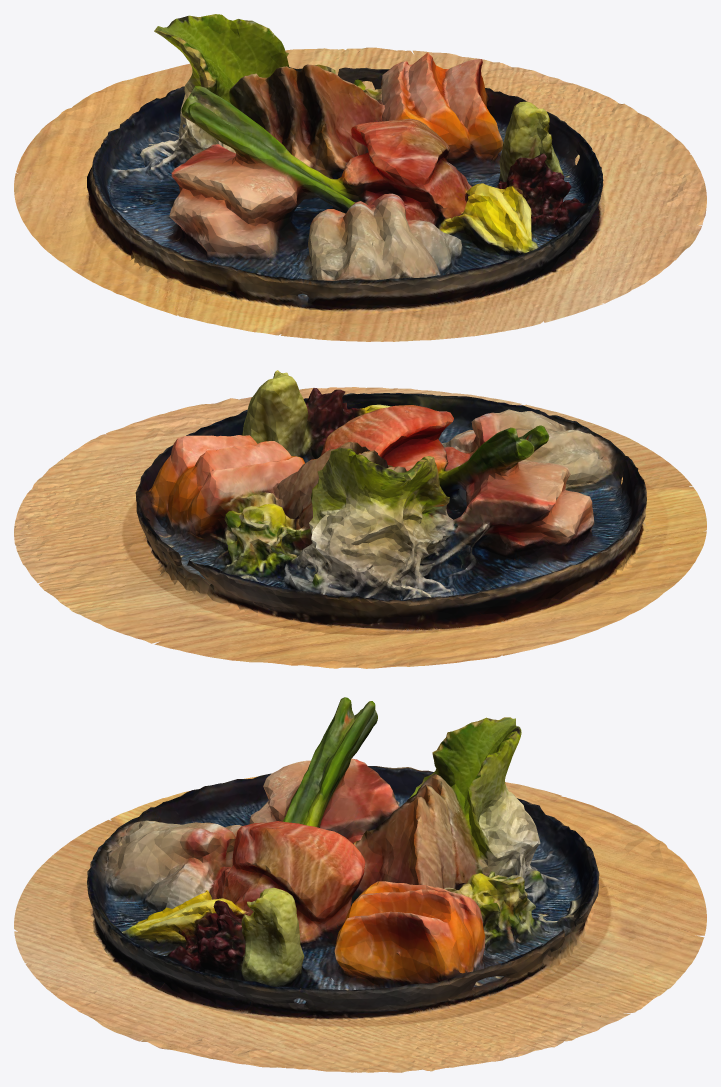
File: sushi.glb
The picture shows the model from 3 angles, top to bottom: view 1: azimuth 30°, elevation 25°; view 2: azimuth 150°, elevation 25°; view 3: azimuth 270°, elevation 25°; orthographic projection.
Size of the model in its own units: 0.2663 by 0.0647 by 0.2663.
Materials: 1 (1 with a texture image).
